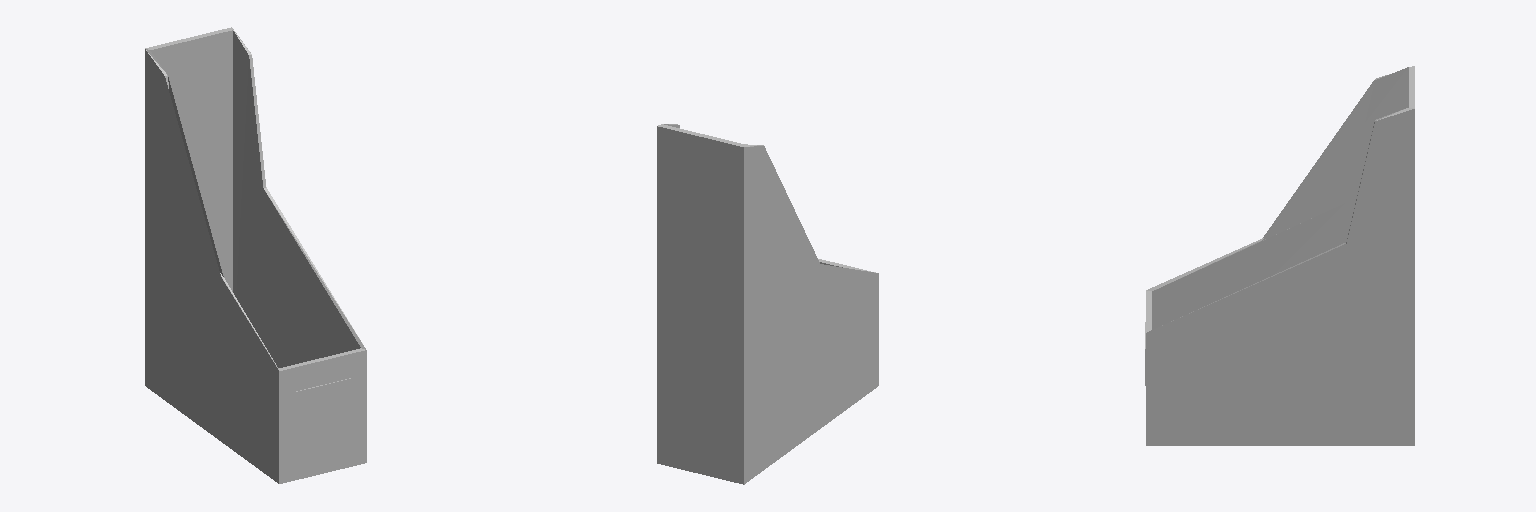
The model's file is file_organizer.obj.
3 views of the same model, side by side, from view 1: azimuth 30°, elevation 25°; view 2: azimuth 150°, elevation 25°; view 3: azimuth 270°, elevation 25° (orthographic).
Parts seen in each view (by area): view 1: Cube.003; view 2: Cube.003; view 3: Cube.003.
Boxes of the visible parts, <box> form: Cube.003: <box>145,27,366,483</box>; Cube.003: <box>657,124,878,484</box>; Cube.003: <box>1145,66,1414,445</box>.
Size of the model in its own units: 10.35 by 38.25 by 27.77.